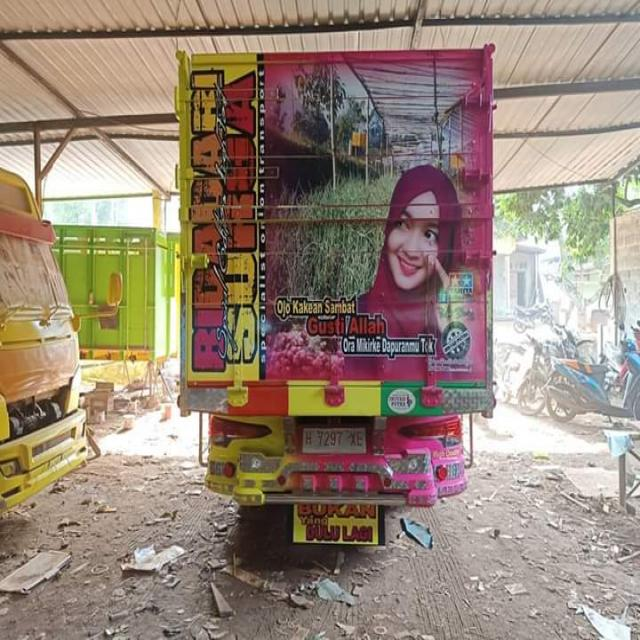Truck: (178, 45, 493, 556)
